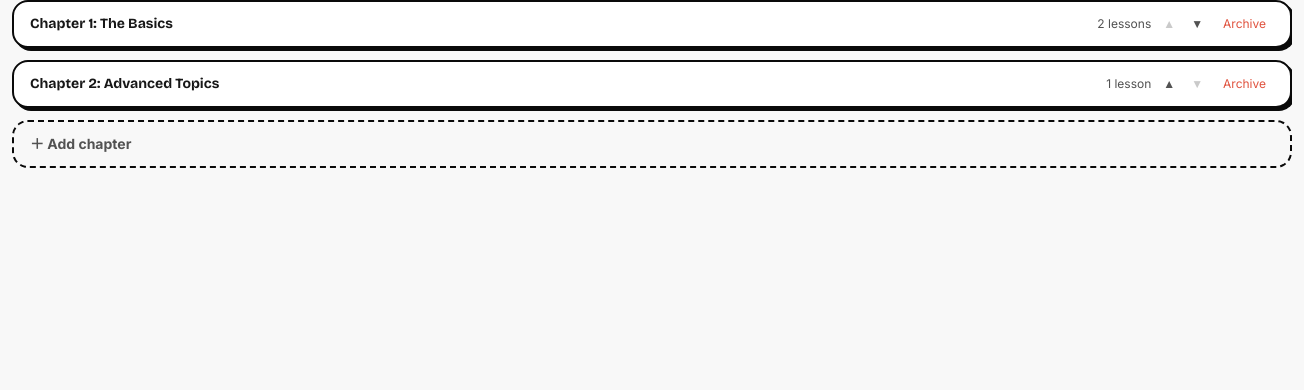
Test: ChapterList › when chapterTests[id] has status "published", the generator shows the ✓ Published badge
The width and height of the screenshot is (1304, 390).
Click the button with aria-label "expand chapter 1: the basics".
click(102, 24)  # box [30,14,1089,34]
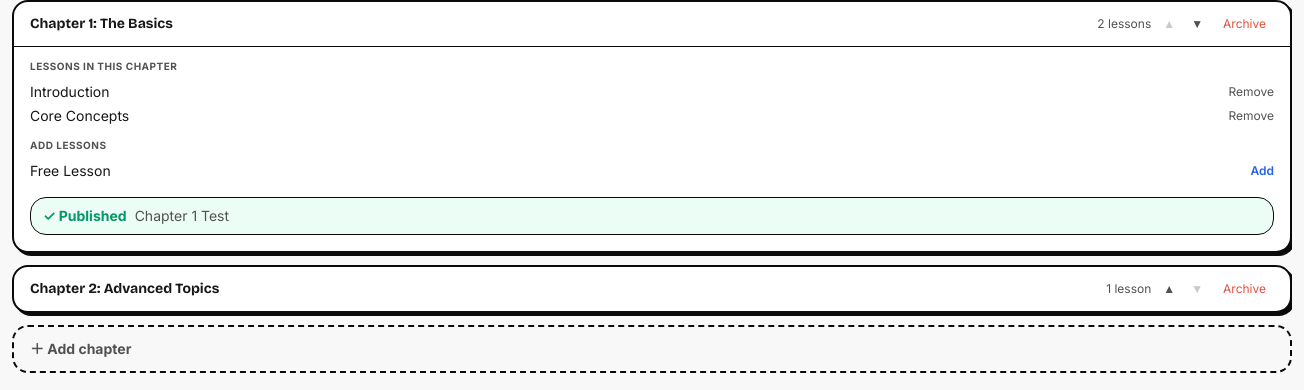
Expected: the text "✓ Published" is shown, [43,206,127,226]
